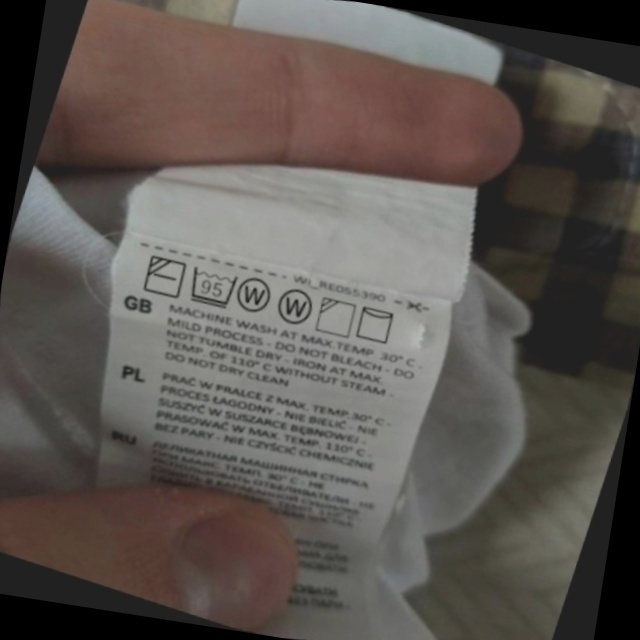95C: (177, 253, 249, 320)
dry_flat_in_shade: (132, 243, 197, 309)
line_dry: (345, 293, 407, 355)
shade_dry: (305, 286, 367, 349)
wet_clean: (226, 263, 286, 325), (265, 276, 325, 338)
